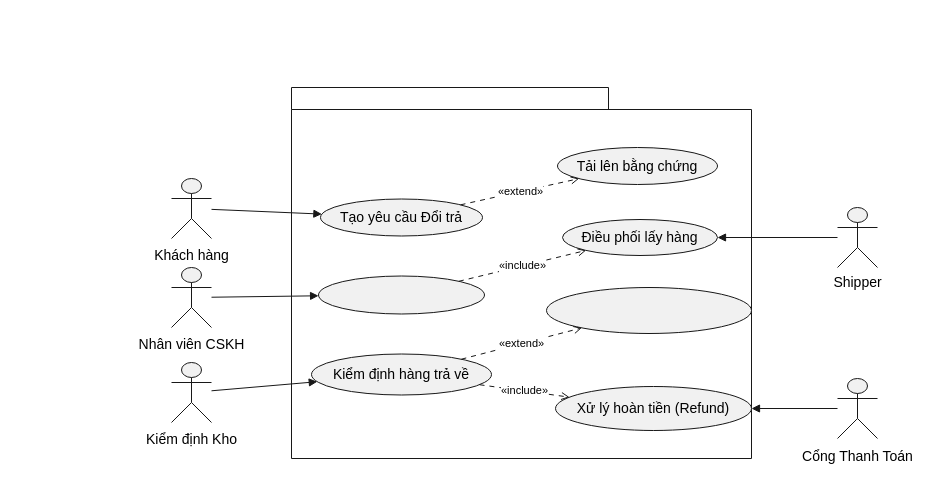
Image size: 938x482. Some labels were removed from this diagram. The shapes that lost their labels are listed below. From the top down, each one's box as (x1, y1, x2, y2) in pixels, then its label:
(290, 86, 752, 458): Phân hệ Đổi trả & Hoàn tiền (Refund)
(318, 275, 484, 314): Duyệt yêu cầu sơ bộ
(546, 286, 752, 334): Khóa tài khoản (Blacklist)
